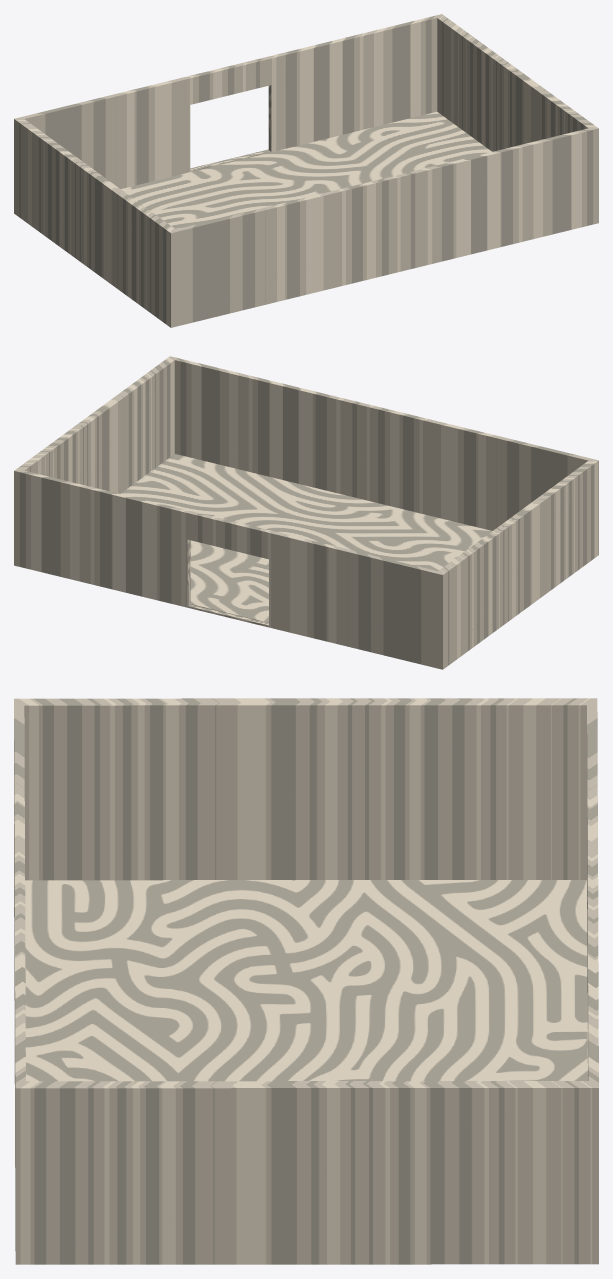
The model's file is Room8.obj.
3 renders of one model, top to bottom at view 1: azimuth 30°, elevation 25°; view 2: azimuth 150°, elevation 25°; view 3: azimuth 270°, elevation 25°, orthographic. The views are drawn at different scales.
Visible parts, largest first — view 1: jorge.001, Plane; view 2: jorge.001, Plane; view 3: jorge.001, Plane.
Boxes of the visible parts, x1=… form: jorge.001: x1=14, y1=14, x2=598, y2=327; Plane: x1=121, y1=111, x2=491, y2=229; jorge.001: x1=14, y1=356, x2=598, y2=669; Plane: x1=121, y1=454, x2=492, y2=622; jorge.001: x1=14, y1=698, x2=598, y2=1264; Plane: x1=25, y1=880, x2=587, y2=1081.
Bounding box in the file's own units: 28.38 × 5.99 × 17.99.
2 materials, 2 textured.
